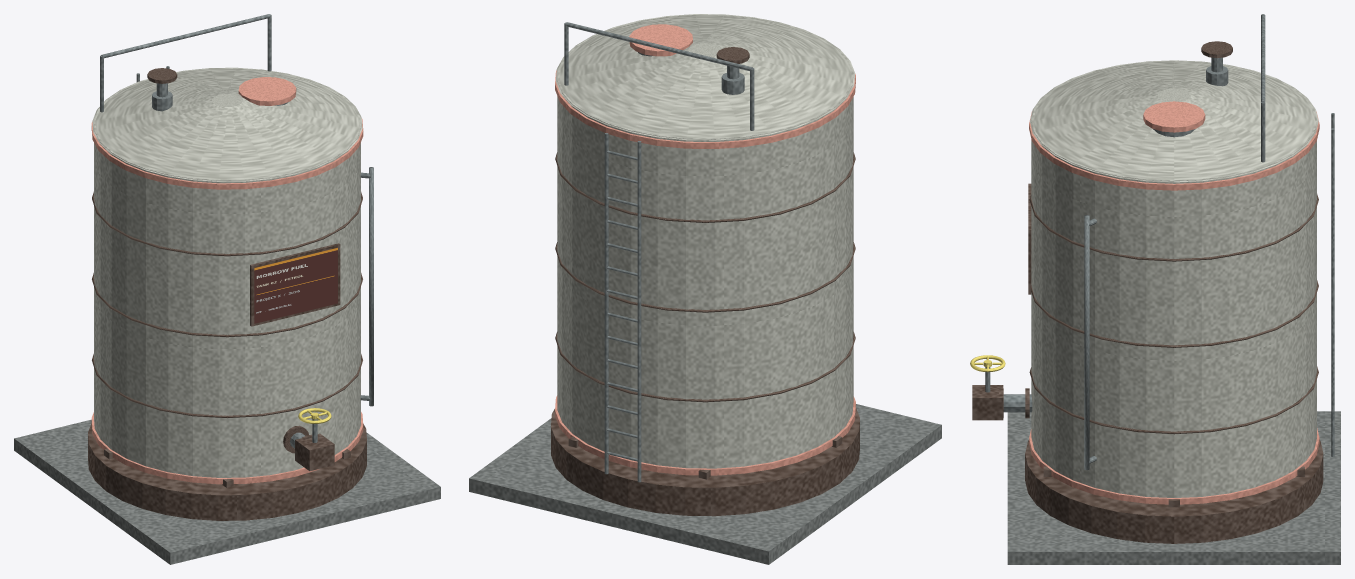
The model's file is PZ_Petrol_Tank02_3p6m.glb.
The picture shows the model from 3 angles, left to right: view 1: azimuth 30°, elevation 25°; view 2: azimuth 150°, elevation 25°; view 3: azimuth 270°, elevation 25°; orthographic projection. The views are drawn at different scales.
Parts seen in each view (by area): view 1: Tank_Vertical_Shell_D3p6m_H4p5m, Tank_Conical_Weather_Roof, Tank_Anchor_Platform, Tank_Foundation_Ring, Tank_Identification_Plate_Graphic, Tank_Upper_Collar, Tank_Lower_Collar, Roof_Hatch_Cover, Level_Indicator_External, Outlet_Valve_Body, Tank_Identification_Plate_Back, Circumferential_Weld_Seam_1 (+3 smaller); view 2: Tank_Vertical_Shell_D3p6m_H4p5m, Tank_Conical_Weather_Roof, Tank_Anchor_Platform, Tank_Foundation_Ring, Tank_Upper_Collar, Tank_Lower_Collar, Ladder_Stile_L, Ladder_Stile_R, Roof_Hatch_Cover, Circumferential_Weld_Seam_2, Circumferential_Weld_Seam_1, Circumferential_Weld_Seam_3 (+1 smaller); view 3: Tank_Vertical_Shell_D3p6m_H4p5m, Tank_Conical_Weather_Roof, Tank_Anchor_Platform, Tank_Foundation_Ring, Tank_Upper_Collar, Tank_Lower_Collar, Roof_Hatch_Cover, Level_Indicator_External, Ladder_Stile_R, Outlet_Valve_Body, Circumferential_Weld_Seam_1, Circumferential_Weld_Seam_3 (+2 smaller).
Boxes of the visible parts, x1,y1,x2,y2 form: Tank_Vertical_Shell_D3p6m_H4p5m: [94, 67, 360, 477]; Tank_Conical_Weather_Roof: [92, 68, 362, 181]; Tank_Anchor_Platform: [14, 419, 440, 564]; Tank_Foundation_Ring: [88, 423, 366, 520]; Tank_Identification_Plate_Graphic: [254, 247, 337, 323]; Tank_Upper_Collar: [91, 119, 363, 189]; Tank_Lower_Collar: [91, 412, 363, 484]; Roof_Hatch_Cover: [238, 77, 296, 105]; Level_Indicator_External: [369, 167, 373, 406]; Outlet_Valve_Body: [295, 433, 334, 471]; Tank_Identification_Plate_Back: [250, 243, 340, 326]; Circumferential_Weld_Seam_1: [92, 354, 362, 417]; Tank_Vertical_Shell_D3p6m_H4p5m: [557, 14, 853, 468]; Tank_Conical_Weather_Roof: [555, 15, 855, 140]; Tank_Anchor_Platform: [469, 404, 941, 564]; Tank_Foundation_Ring: [551, 408, 859, 516]; Tank_Upper_Collar: [555, 70, 855, 148]; Tank_Lower_Collar: [555, 395, 855, 475]; Ladder_Stile_L: [637, 141, 641, 482]; Ladder_Stile_R: [604, 133, 608, 474]; Roof_Hatch_Cover: [629, 24, 692, 56]; Circumferential_Weld_Seam_2: [555, 242, 855, 312]; Circumferential_Weld_Seam_1: [555, 332, 855, 402]; Circumferential_Weld_Seam_3: [555, 152, 855, 222]; Tank_Vertical_Shell_D3p6m_H4p5m: [1031, 60, 1316, 497]; Tank_Conical_Weather_Roof: [1030, 61, 1318, 182]; Tank_Anchor_Platform: [1007, 411, 1340, 564]; Tank_Foundation_Ring: [1025, 440, 1323, 543]; Tank_Upper_Collar: [1029, 111, 1319, 190]; Tank_Lower_Collar: [1029, 428, 1319, 504]; Roof_Hatch_Cover: [1143, 101, 1205, 132]; Level_Indicator_External: [1084, 215, 1089, 470]; Ladder_Stile_R: [1331, 128, 1334, 456]; Outlet_Valve_Body: [972, 385, 1003, 420]; Circumferential_Weld_Seam_1: [1029, 366, 1318, 434]; Circumferential_Weld_Seam_3: [1029, 194, 1318, 261].
Size of the model in its own units: 4.2 by 6.08 by 4.67.
Materials: 7 (7 with a texture image).
